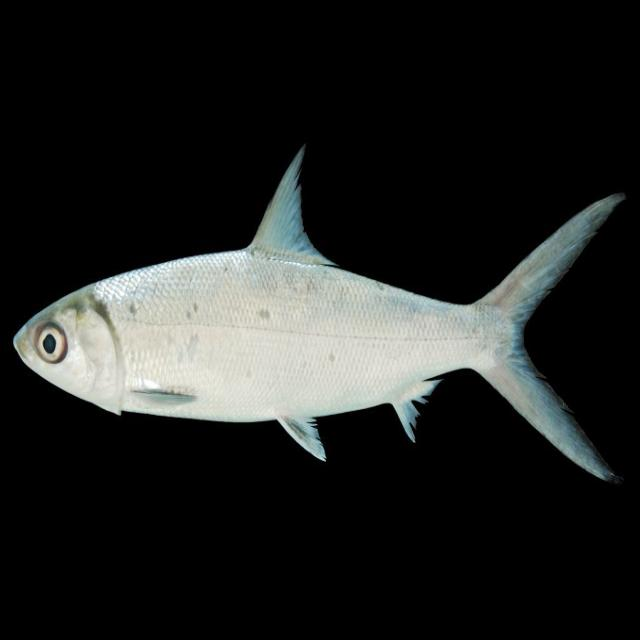Bangus: (0, 127, 621, 518)
